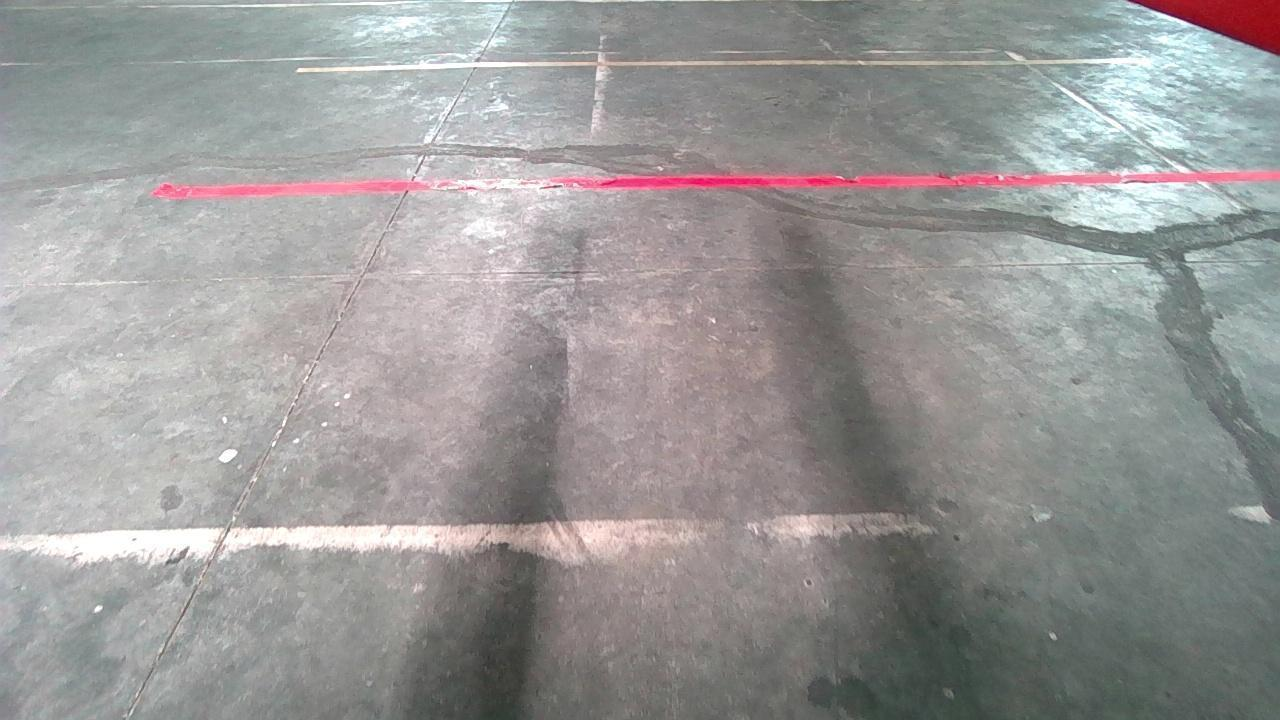red_line: (153, 168, 1280, 196)
